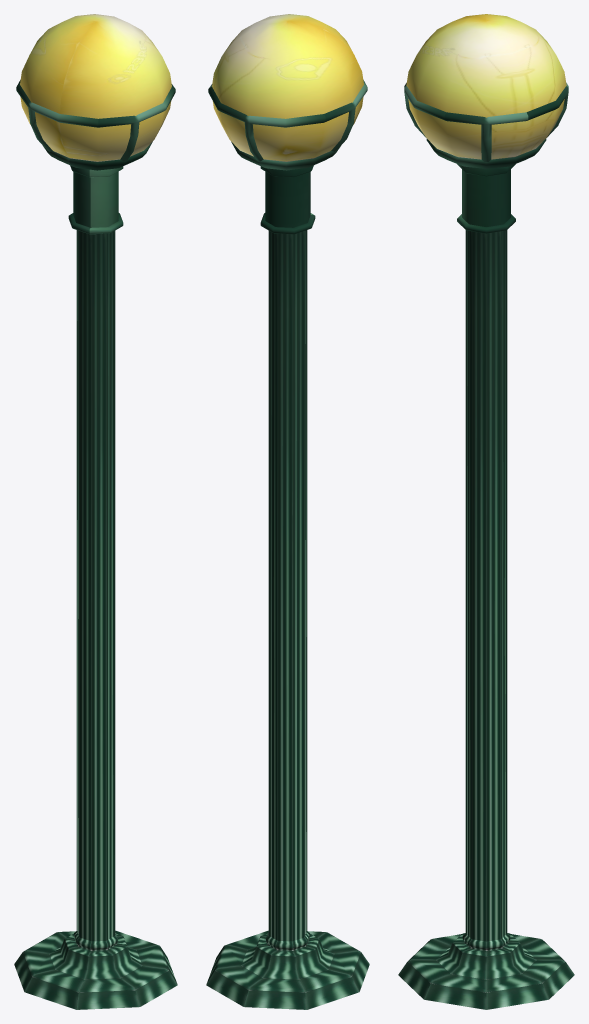
The model's file is Lamp_Text.obj.
The picture shows the model from 3 angles, left to right: view 1: azimuth 30°, elevation 25°; view 2: azimuth 150°, elevation 25°; view 3: azimuth 270°, elevation 25°; orthographic projection.
Parts seen in each view (by area): view 1: rv_lamp_post_2_Lamp_post_metal_mat1SG, rv_lamp_post_2_Lamppost_glow1SG; view 2: rv_lamp_post_2_Lamp_post_metal_mat1SG, rv_lamp_post_2_Lamppost_glow1SG; view 3: rv_lamp_post_2_Lamp_post_metal_mat1SG, rv_lamp_post_2_Lamppost_glow1SG.
Boxes of the visible parts, <box> form: rv_lamp_post_2_Lamp_post_metal_mat1SG: <box>14,80,177,1009</box>; rv_lamp_post_2_Lamppost_glow1SG: <box>20,14,171,161</box>; rv_lamp_post_2_Lamp_post_metal_mat1SG: <box>206,80,369,1009</box>; rv_lamp_post_2_Lamppost_glow1SG: <box>212,14,363,161</box>; rv_lamp_post_2_Lamp_post_metal_mat1SG: <box>398,83,574,1009</box>; rv_lamp_post_2_Lamppost_glow1SG: <box>406,14,566,159</box>.
Bounding box in the file's own units: 0.731 × 4.65 × 0.7816.
